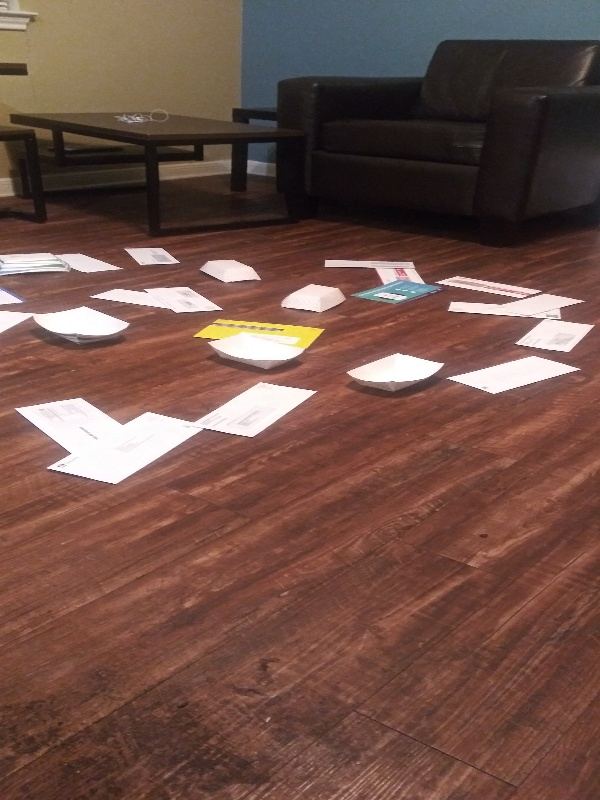plate: (343, 349, 449, 398), (203, 328, 309, 374), (27, 304, 135, 349), (1, 244, 73, 284), (277, 280, 350, 315), (194, 254, 263, 286)
